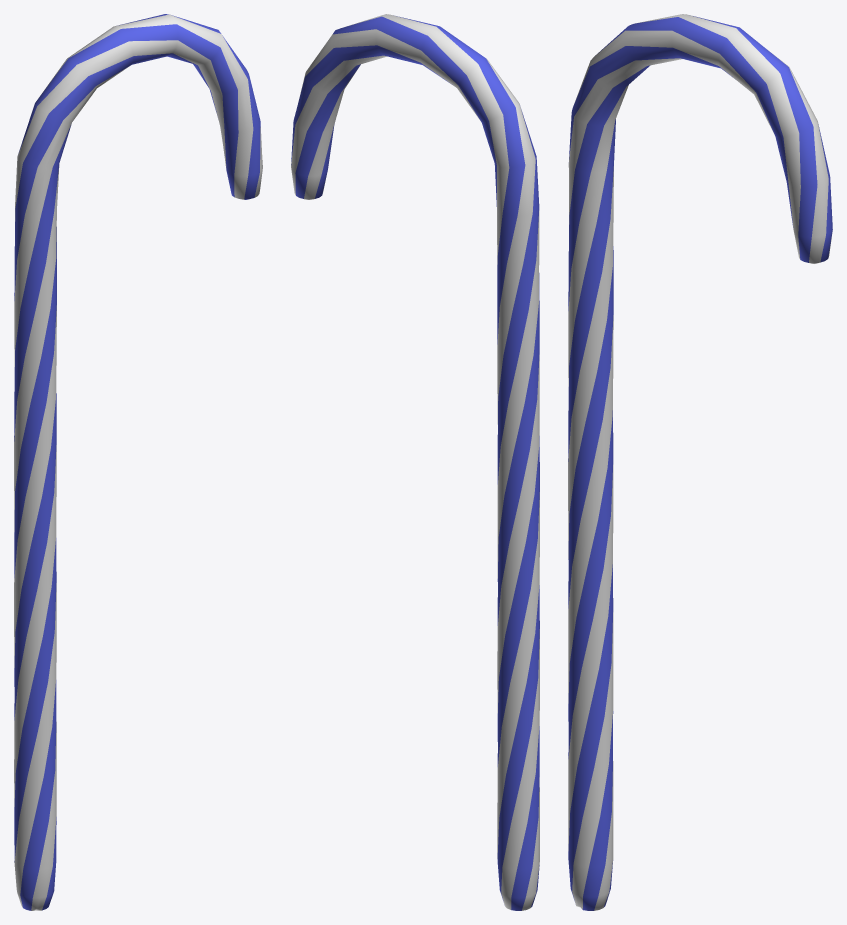
The model's file is FishingCane.fbx.
3 views of the same model, side by side, from view 1: azimuth 30°, elevation 25°; view 2: azimuth 150°, elevation 25°; view 3: azimuth 330°, elevation 25° (orthographic). The views are drawn at different scales.
Parts seen in each view (by area): view 1: Cylinder; view 2: Cylinder; view 3: Cylinder.
Part boxes in pixels (x1,y1,x2,y2): Cylinder: [14, 14, 262, 910]; Cylinder: [291, 14, 539, 910]; Cylinder: [568, 14, 832, 910].
Size of the model in its own units: 39.81 by 135 by 6.02.
